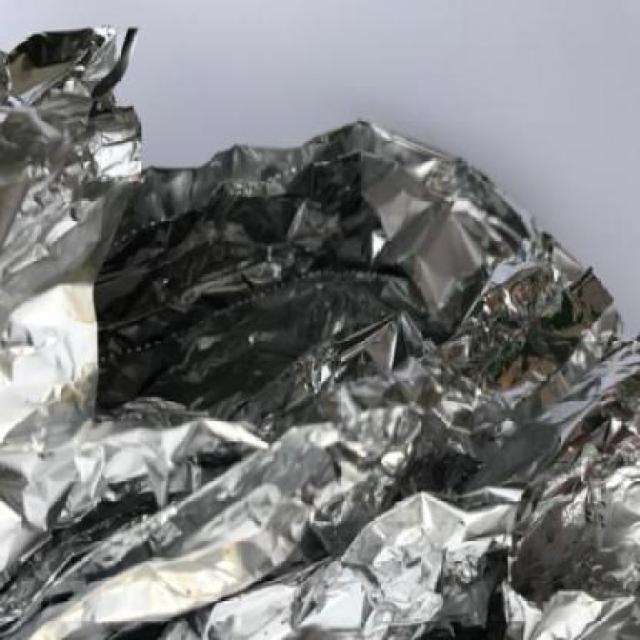METAL: (0, 24, 638, 640)
